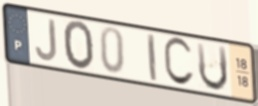0: (98, 25, 128, 78)
C: (162, 36, 197, 88)
I: (145, 31, 159, 84)
J: (33, 17, 59, 63)
O: (62, 19, 96, 72)
U: (195, 40, 230, 93)
